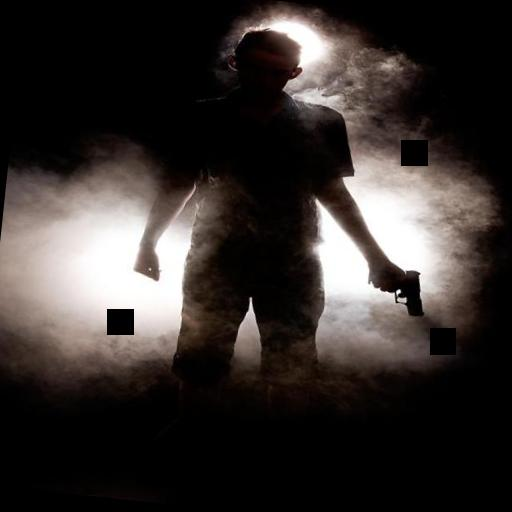Handgun: (358, 260, 434, 320)
